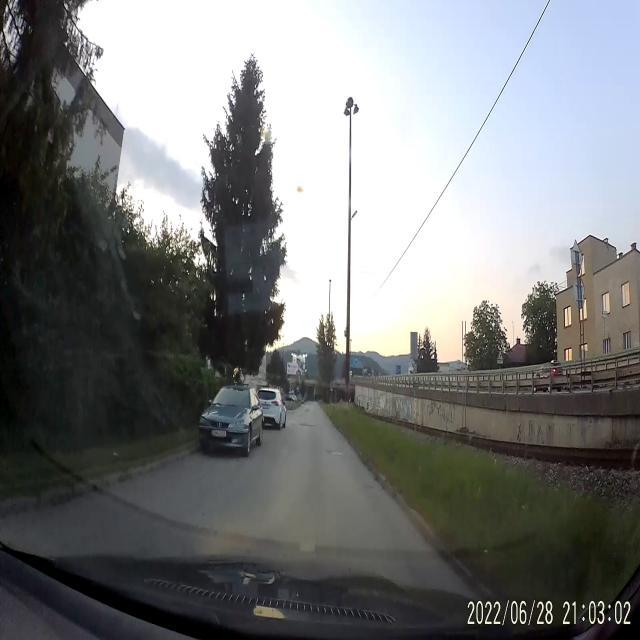Manhole: (327, 442, 344, 458)
Pothole: (294, 415, 320, 438)
